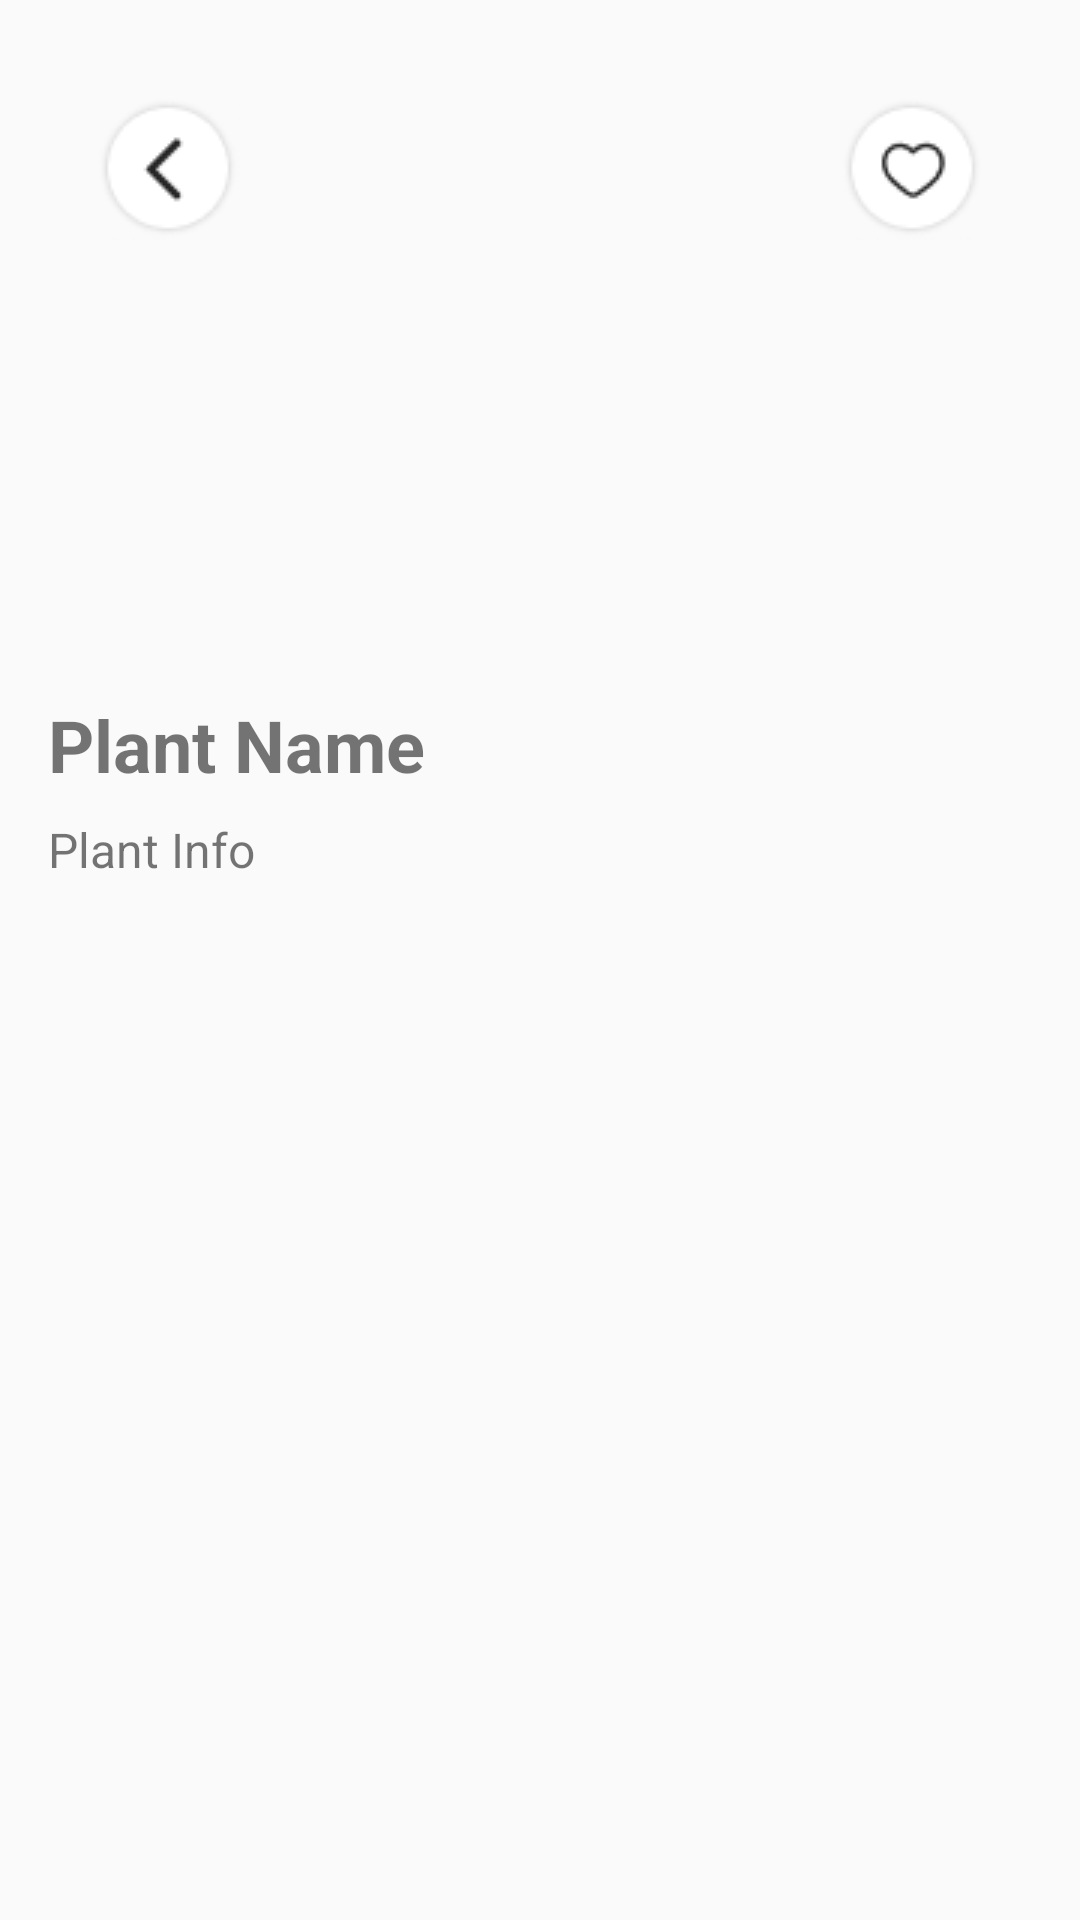

Icon click points for this 1080px×1920px phone screenshot, format point (x, y):
back button: point (163, 169)
